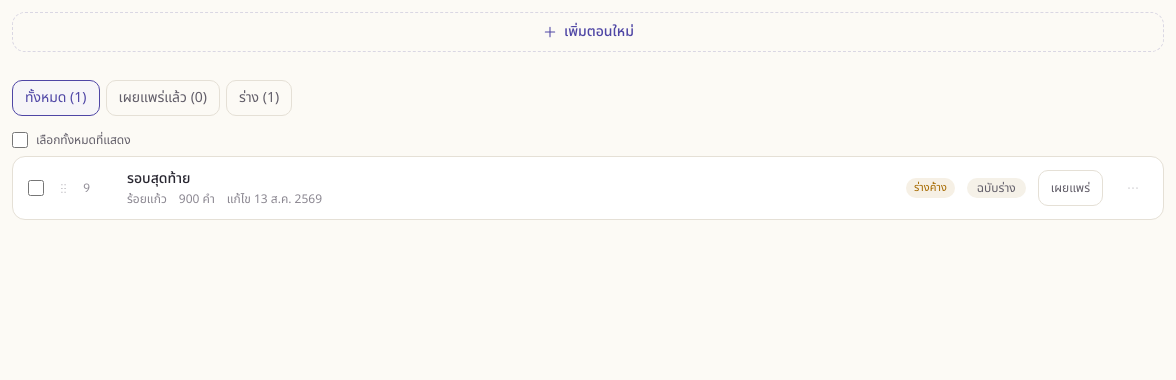
Test case: publishing guards (#2, #8) › runs the advisory precheck in the publish confirmation (13Y §11)
The width and height of the screenshot is (1176, 380).
Click the button "เผยแพร่" at [1070, 188], box [1038,170,1103,206]
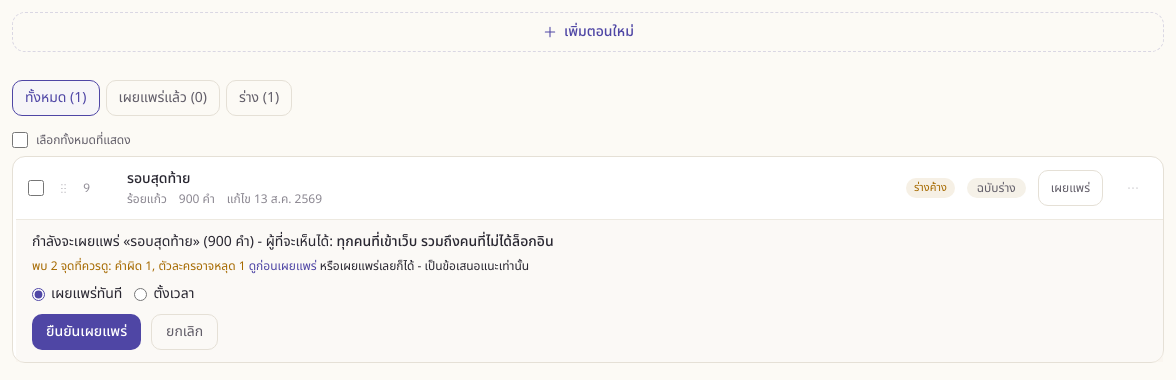
Check: the text "พบ 2 จุดที่ควรดู: คำผิด 1, ตัวละครอาจหลุด 1" is shown, box [32,257,246,275]
Check: the button "ยืนยันเผยแพร่" is enabled, box [32,314,141,350]
Check: the link "ดูก่อนเผยแพร่" is shown, box [249,257,317,275]
